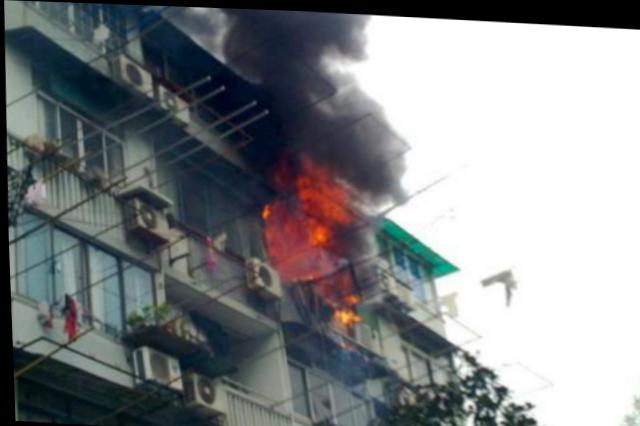fire: (258, 202, 332, 277), (291, 159, 342, 217), (326, 285, 354, 319)
